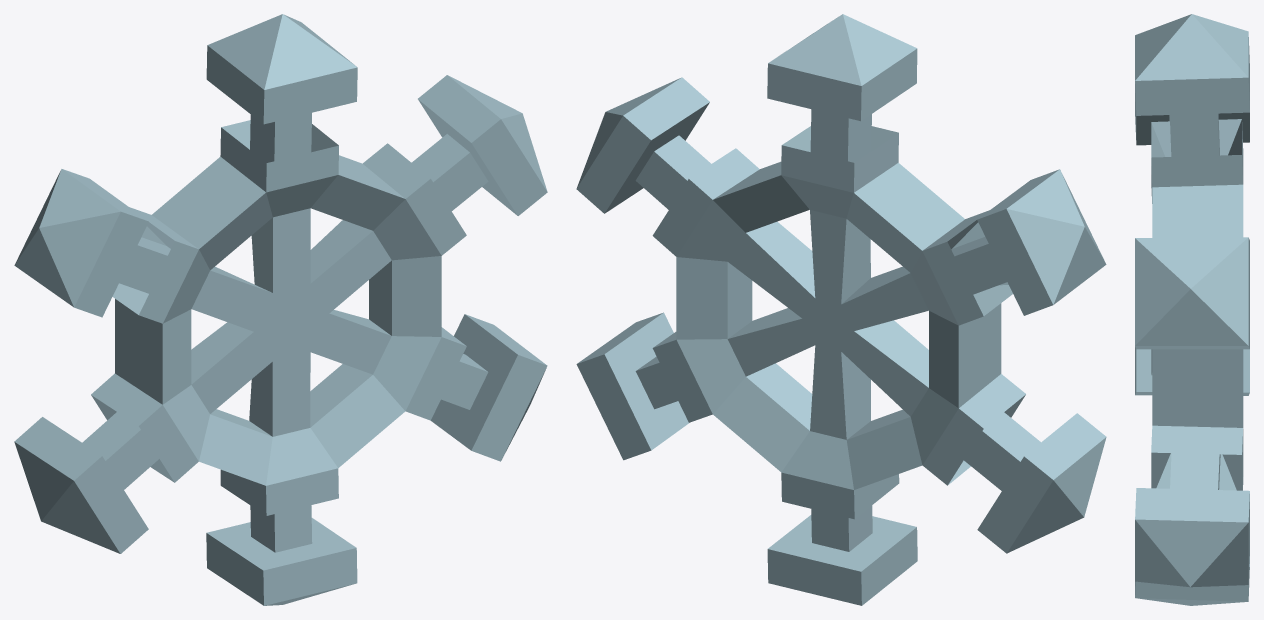
File: Snowflake.fbx
3 views of the same model, side by side, from view 1: azimuth 30°, elevation 25°; view 2: azimuth 150°, elevation 25°; view 3: azimuth 270°, elevation 25° (orthographic).
Visible parts, largest first — view 1: Snowflake; view 2: Snowflake; view 3: Snowflake.
Boxes of the visible parts, box(x1,y1,x2,y2) form: Snowflake: box(14, 14, 547, 605); Snowflake: box(576, 14, 1106, 605); Snowflake: box(1135, 14, 1249, 605).
Size of the model in its own units: 0.1541 by 0.1775 by 0.0312.
